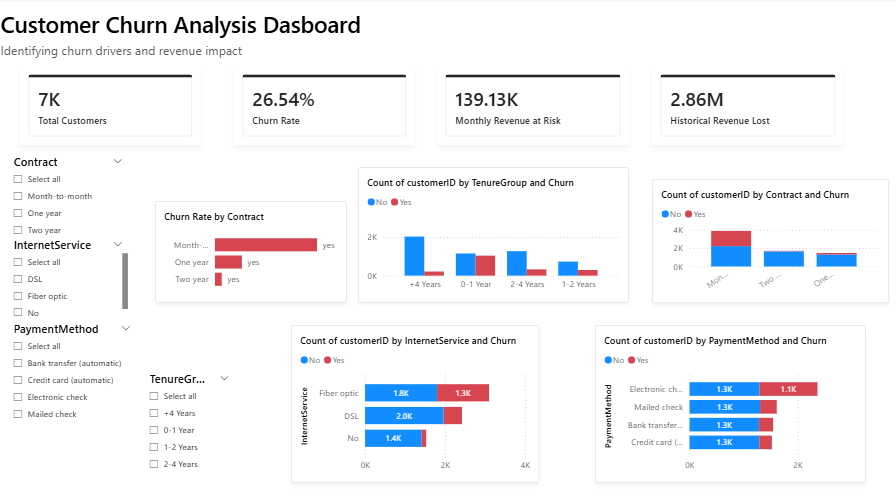

The dashboard page shown, as its layout file describes it:
{"tool":"powerbi","page":{"name":"Page 1","canvas":[1280,720],"ordinal":0},"visuals":[{"type":"cardVisual","fields":{"Data":["cleaned_churn_base.Churn Rate"]},"box":[336,96,256,112],"z":0},{"type":"cardVisual","fields":{"Data":["cleaned_churn_base.Total Customers"]},"box":[32,96,256,112],"z":1000},{"type":"cardVisual","fields":{"Data":["cleaned_churn_base.Monthly Revenue at Risk"]},"box":[624,96,272,112],"z":2000},{"type":"cardVisual","fields":{"Data":["cleaned_churn_base.Historical Revenue Lost"]},"box":[928,96,272,112],"z":3000},{"type":"columnChart","fields":{"Category":["cleaned_churn_base.Contract"],"Series":["cleaned_churn_base.Churn"],"Y":["CountNonNull(cleaned_churn_base.customerID)"]},"box":[928,256,336,176],"z":4000},{"type":"clusteredColumnChart","fields":{"Category":["cleaned_churn_base.TenureGroup"],"Series":["cleaned_churn_base.Churn"],"Y":["CountNonNull(cleaned_churn_base.customerID)"]},"box":[512,240,384,192],"z":5000},{"type":"barChart","fields":{"Category":["cleaned_churn_base.InternetService"],"Series":["cleaned_churn_base.Churn"],"Y":["CountNonNull(cleaned_churn_base.customerID)"]},"box":[416,464,352,224],"z":6000},{"type":"barChart","fields":{"Category":["cleaned_churn_base.PaymentMethod"],"Series":["cleaned_churn_base.Churn"],"Y":["CountNonNull(cleaned_churn_base.customerID)"]},"box":[848,464,384,224],"z":7000},{"type":"slicer","fields":{"Values":["cleaned_churn_base.Contract"]},"box":[15.8,221.8,169.9,126.7],"z":8000},{"type":"slicer","fields":{"Values":["cleaned_churn_base.InternetService"]},"box":[15.8,338.4,169.9,113.8],"z":9000},{"type":"slicer","fields":{"Values":["cleaned_churn_base.PaymentMethod"]},"box":[15.8,457.9,181.4,148.3],"z":10000},{"type":"slicer","fields":{"Values":["cleaned_churn_base.TenureGroup"]},"box":[208,528,128,160],"z":11000},{"type":"barChart","fields":{"Category":["cleaned_churn_base.Contract"],"Y":["cleaned_churn_base.Churn Rate"]},"box":[224,288,272,144],"z":12000},{"type":"textbox","title":" Customer Churn Analysis Dasboard","box":[0,14.2,1258.6,72.3],"z":13000}]}

Visuals, with their boxes in screenshot pixels (x1, y1, x2, y2), scaled from the page's 1280x720 canvas onto the 896x497 screenshot:
cardVisual - cleaned_churn_base.Churn Rate: bbox(235, 66, 414, 144)
cardVisual - cleaned_churn_base.Total Customers: bbox(22, 66, 202, 144)
cardVisual - cleaned_churn_base.Monthly Revenue at Risk: bbox(437, 66, 627, 144)
cardVisual - cleaned_churn_base.Historical Revenue Lost: bbox(650, 66, 840, 144)
columnChart - cleaned_churn_base.Contract x cleaned_churn_base.Churn: bbox(650, 177, 885, 298)
clusteredColumnChart - cleaned_churn_base.TenureGroup x cleaned_churn_base.Churn: bbox(358, 166, 627, 298)
barChart - cleaned_churn_base.InternetService x cleaned_churn_base.Churn: bbox(291, 320, 538, 475)
barChart - cleaned_churn_base.PaymentMethod x cleaned_churn_base.Churn: bbox(594, 320, 862, 475)
slicer - cleaned_churn_base.Contract: bbox(11, 153, 130, 241)
slicer - cleaned_churn_base.InternetService: bbox(11, 234, 130, 312)
slicer - cleaned_churn_base.PaymentMethod: bbox(11, 316, 138, 418)
slicer - cleaned_churn_base.TenureGroup: bbox(146, 364, 235, 475)
barChart - cleaned_churn_base.Contract x cleaned_churn_base.Churn Rate: bbox(157, 199, 347, 298)
" Customer Churn Analysis Dasboard" textbox: bbox(0, 10, 881, 60)
